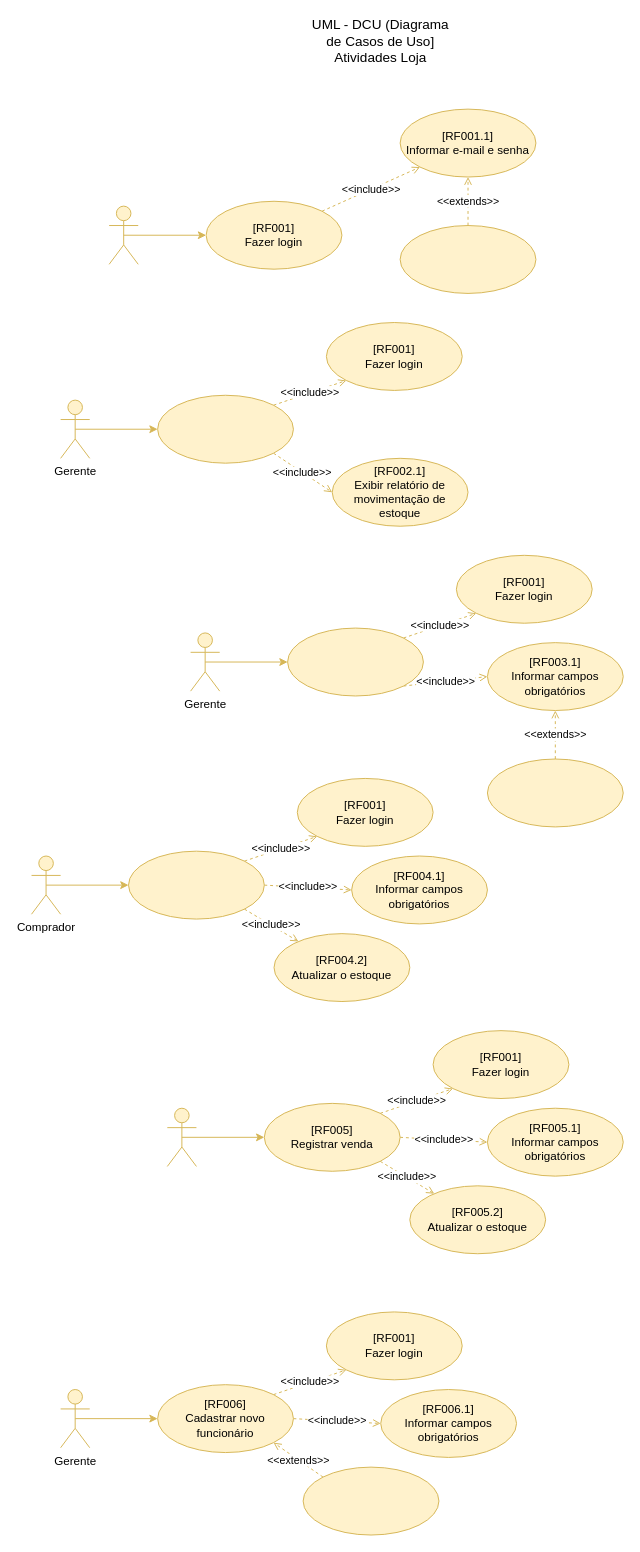
Some shapes in this 640 by 1552 pixel diagram are drawn without their labels. Here are the shapes that lost their labels. From the top down, the centre of each, then its label:
At point (123, 234): "Usuários".
At point (467, 259): "[RF001.2] Exibir mensagem de erro".
At point (225, 428): "[RF002] Exibir dashboard".
At point (355, 661): "[RF003]Cadastrar mercadorias".
At point (554, 792): "[RF003.2] Buscar por nome".
At point (196, 884): "[RF004] Registrar compra".
At point (181, 1136): "Vendedor".
At point (370, 1500): "[RF007.2] Marcar para trocar a senha no primeiro acesso".
